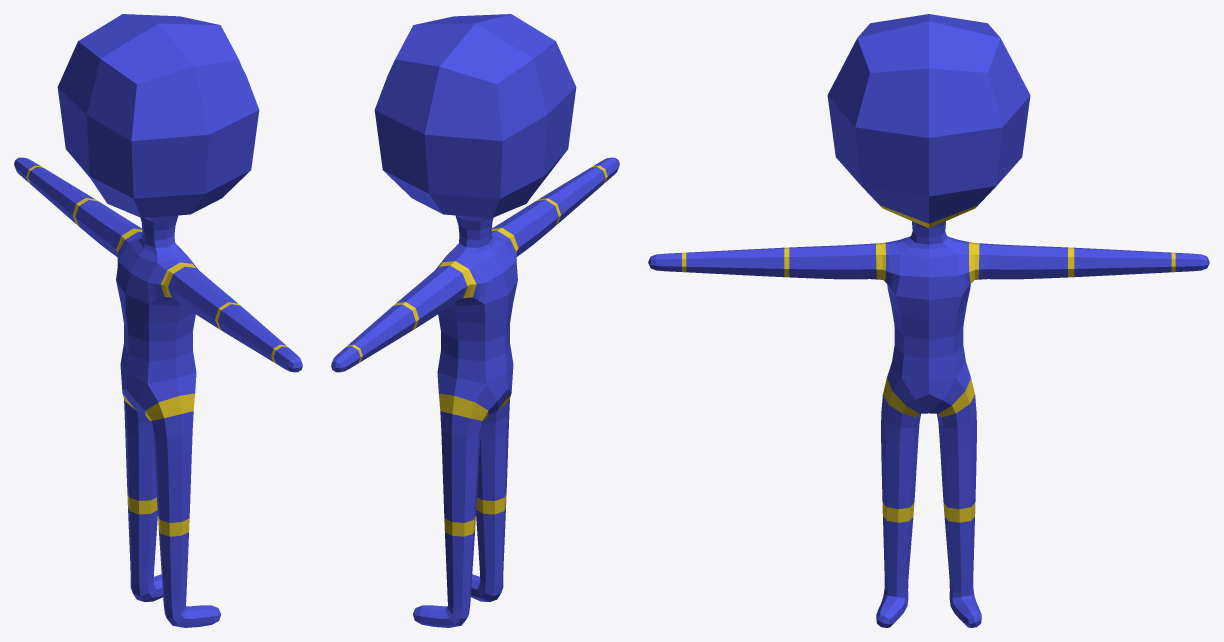
File: Character_v1.fbx
3 views of the same model, side by side, from view 1: azimuth 30°, elevation 25°; view 2: azimuth 150°, elevation 25°; view 3: azimuth 270°, elevation 25° (orthographic).
Parts seen in each view (by area): view 1: Character_v1; view 2: Character_v1; view 3: Character_v1.
Part boxes in pixels (x1=…): Character_v1: x1=14, y1=14, x2=302, y2=627; Character_v1: x1=331, y1=14, x2=619, y2=627; Character_v1: x1=648, y1=14, x2=1209, y2=627.
Size of the model in its own units: 39.13 by 139 by 119.
